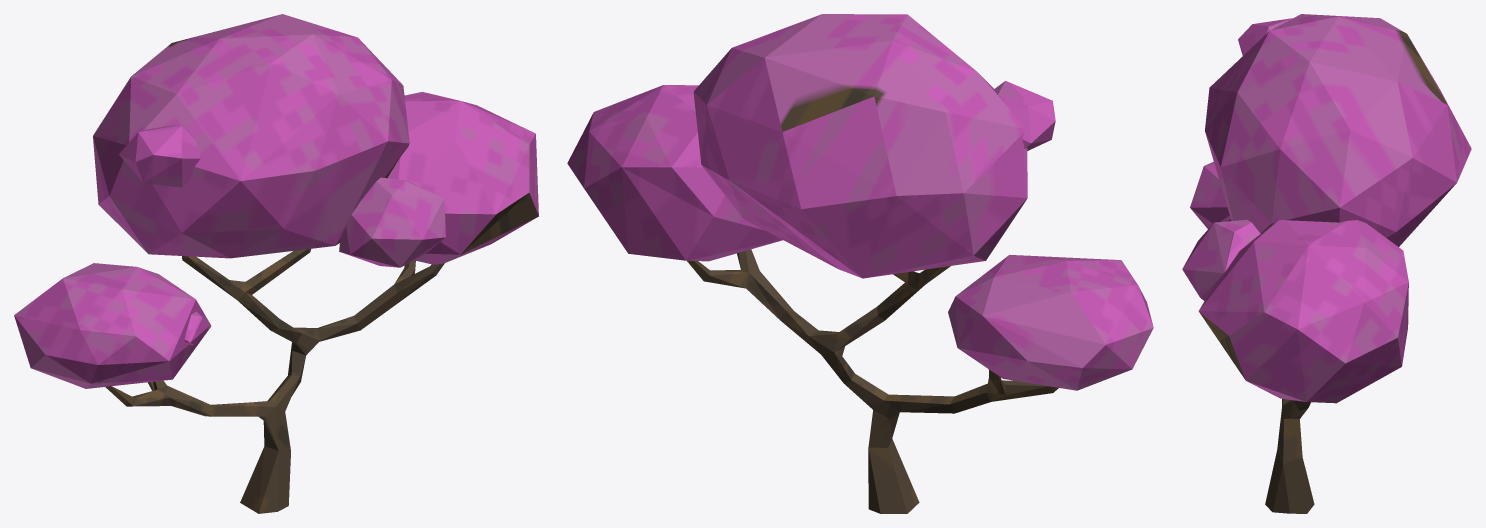
The model's file is kopak.fbx.
The picture shows the model from 3 angles, left to right: view 1: azimuth 30°, elevation 25°; view 2: azimuth 150°, elevation 25°; view 3: azimuth 270°, elevation 25°; orthographic projection. The views are drawn at different scales.
Visible parts, largest first — view 1: Plane; view 2: Plane; view 3: Plane.
Part boxes in pixels (x1=…): Plane: x1=14, y1=14, x2=538, y2=513; Plane: x1=567, y1=14, x2=1153, y2=513; Plane: x1=1182, y1=14, x2=1471, y2=513.
Bounding box in the file's own units: 1569 × 1346 × 738.
1 material, 1 textured.
